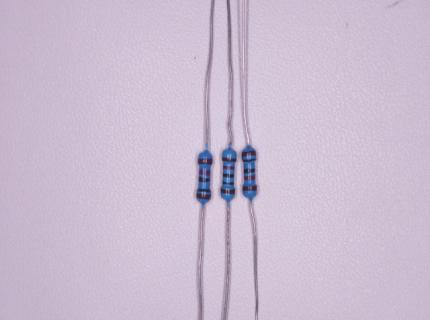Black band: (243, 157, 257, 164), (196, 187, 211, 193), (198, 177, 211, 183), (243, 168, 256, 173), (222, 173, 234, 178), (222, 181, 234, 185)
Brown band: (241, 150, 257, 158), (196, 192, 211, 200), (242, 184, 258, 191), (198, 158, 213, 165), (221, 157, 237, 163), (220, 188, 235, 194)
Red band: (198, 169, 211, 176), (243, 175, 256, 181), (223, 164, 235, 170)
